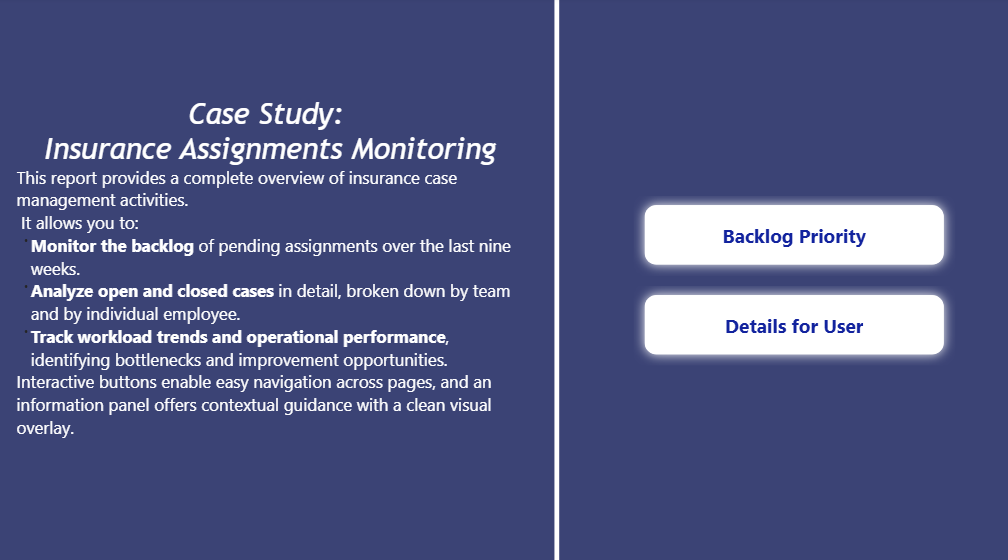

The page's visual inventory and layout, read from the dashboard file:
{"tool":"powerbi","page":{"name":"Home","canvas":[1280,720],"ordinal":0},"visuals":[{"type":"textbox","box":[17.9,121.5,649.3,478],"z":0},{"type":"shape","box":[607.2,0,192.3,719.2],"z":1000},{"type":"pageNavigator","box":[800,249.1,405.8,217.7],"z":2000}]}

Visuals, with their boxes in screenshot pixels (x1, y1, x2, y2), scaled from the page's 1280x720 canvas onto the 1008x560 screenshot:
textbox: x1=14 y1=94 x2=525 y2=466
shape: x1=478 y1=0 x2=630 y2=559
pageNavigator: x1=630 y1=194 x2=950 y2=363
